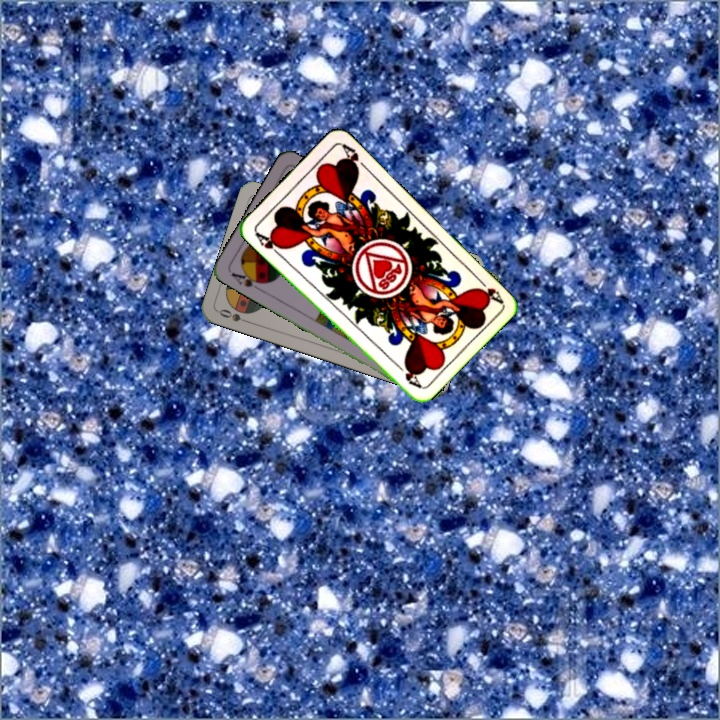HA: (251, 227, 287, 260), (472, 273, 505, 306)
SA: (227, 266, 267, 293)
SO: (215, 305, 254, 326)
